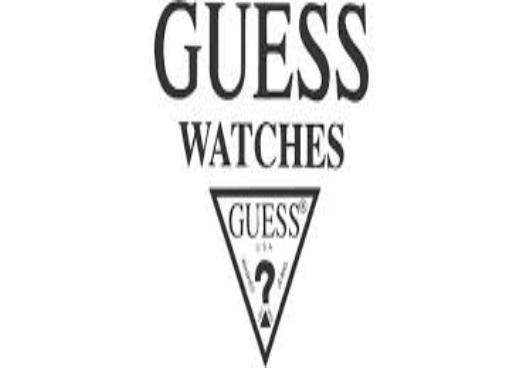GUESS: (201, 173, 330, 365), (153, 2, 384, 102)
